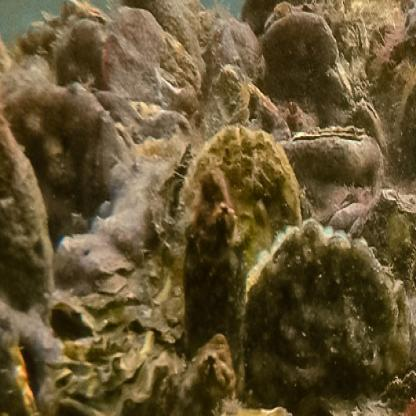3: (55, 328, 158, 416), (293, 126, 382, 187), (352, 99, 388, 151)
Oyster-Closed: (243, 220, 400, 407), (178, 125, 303, 285), (262, 6, 357, 107), (0, 335, 43, 416)
Oyster-Open: (0, 42, 137, 249), (185, 170, 246, 400), (0, 113, 57, 318), (102, 8, 165, 102), (167, 337, 239, 416)
